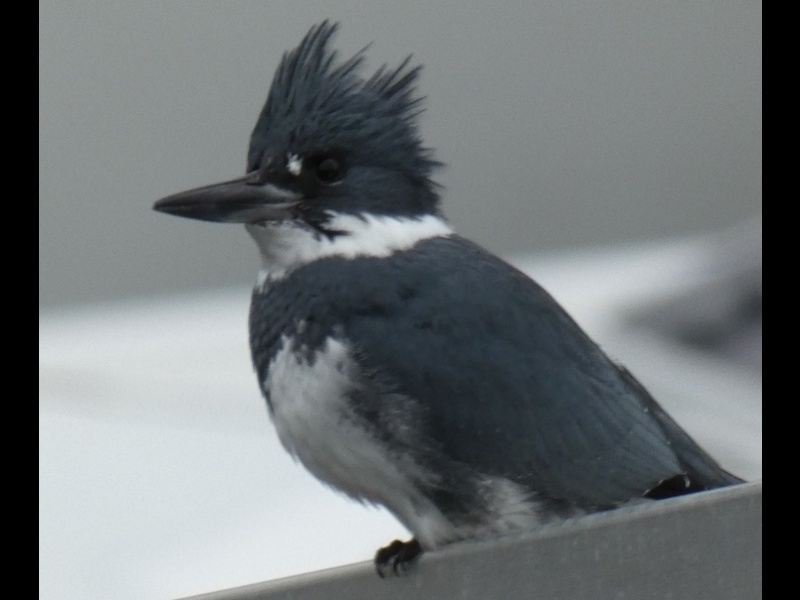kingfisher: (147, 17, 740, 577)
